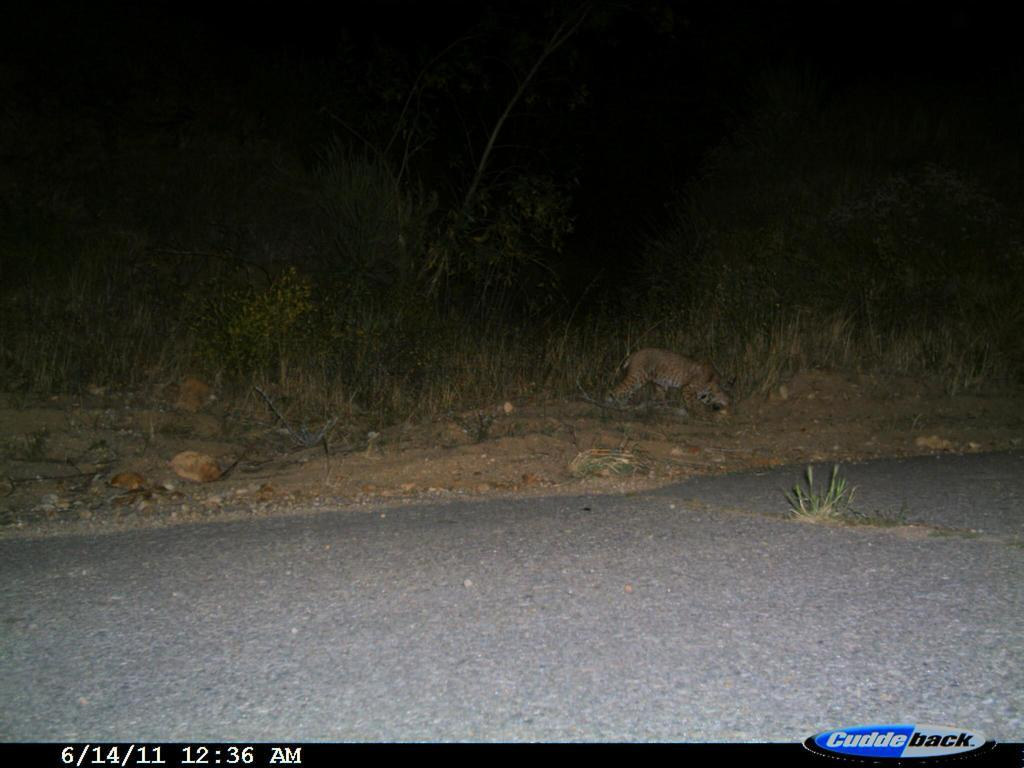bobcat: (609, 337, 743, 428)
